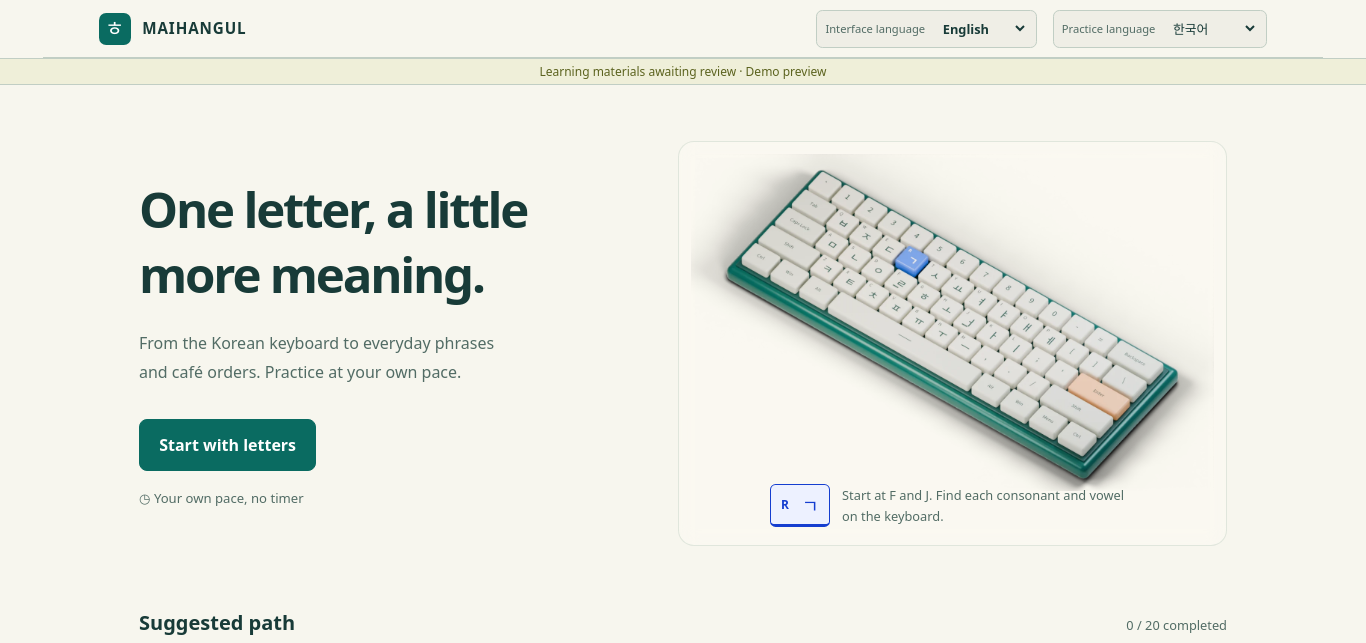
Test case: uses the rendered hero as decoration and derives four-stage counts from real completed content
Click the button "Start with letters". click: coordinates (228, 445)
box: [139, 419, 316, 471]
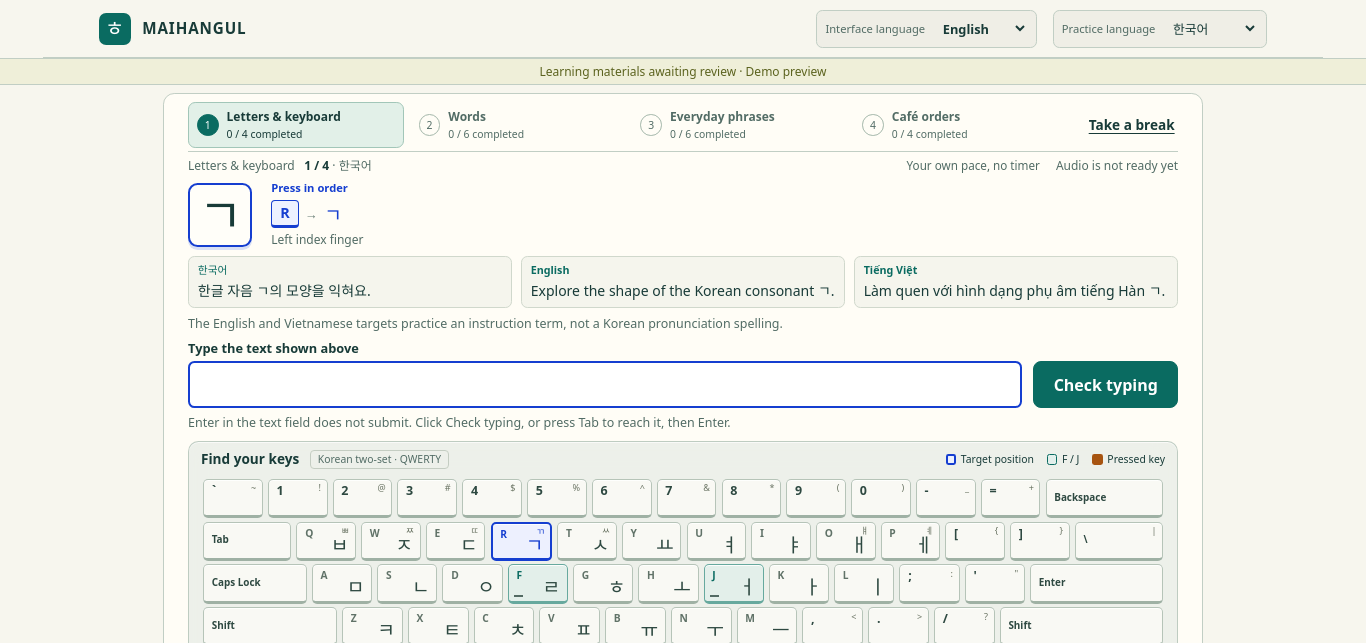
Check: the number of list items is 4, box [188, 102, 404, 148]; [419, 108, 524, 142]; [640, 108, 775, 142]; [862, 108, 968, 142]
Check: the list item "1 Letters & keyboard 0 / 4 completed" is shown, box [188, 102, 404, 148]
Check: the list item "2 Words 0 / 6 completed" is shown, box [419, 108, 524, 142]
Type "ㄱ" into the field. click: coordinates (605, 384)
box: [188, 361, 1022, 408]
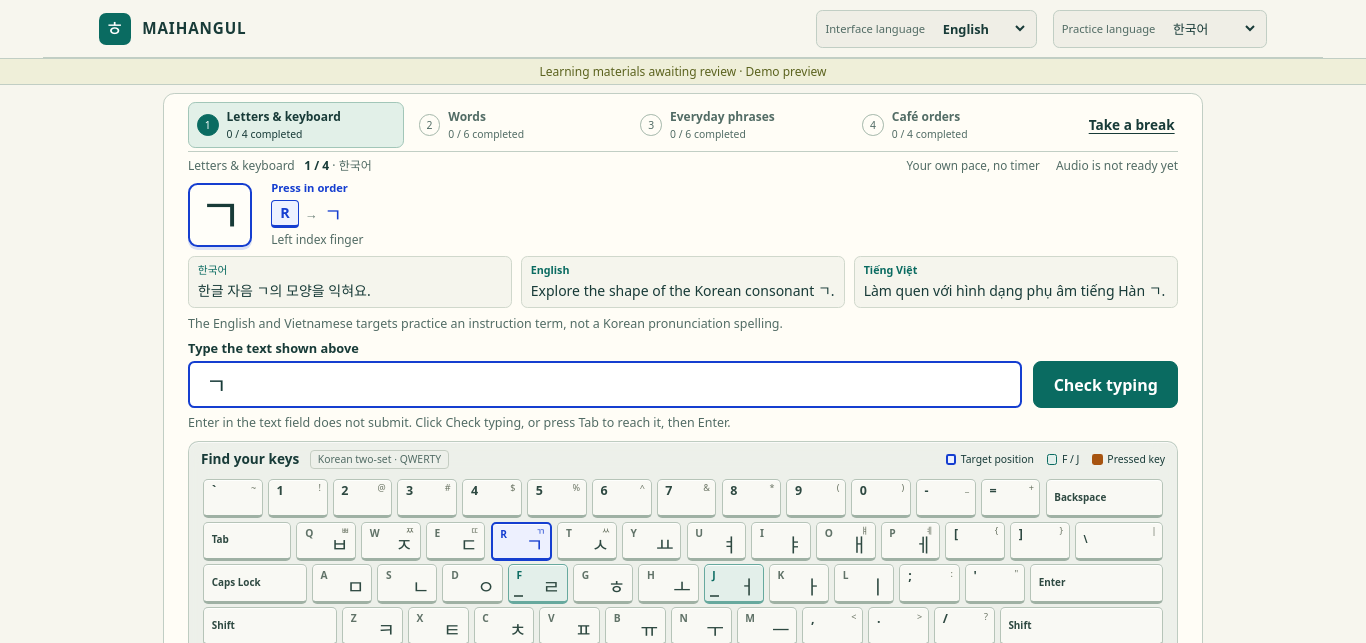
Click the button "Check typing". click: coordinates (1106, 384)
box: [1034, 361, 1178, 408]
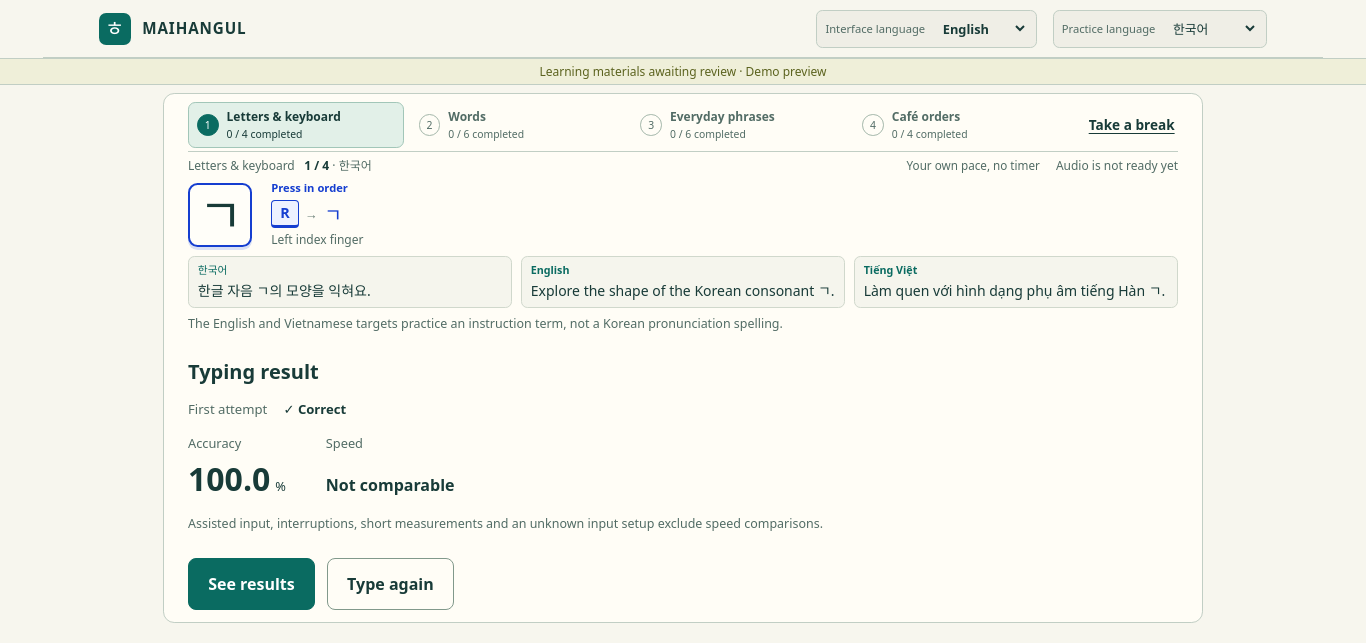
Check: the list item "1 Letters & keyboard 0 / 4 completed" is shown, box [188, 102, 404, 148]
Click the button "See results". click: coordinates (251, 584)
box: [188, 558, 315, 610]
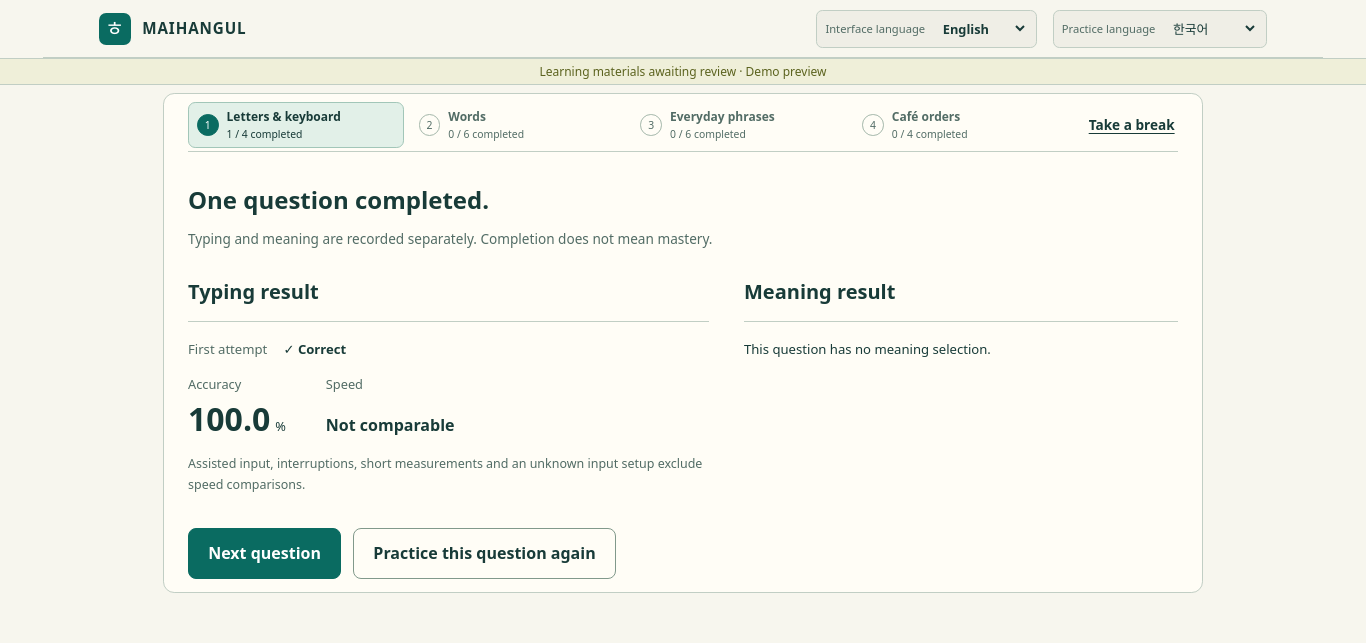
Check: the list item "1 Letters & keyboard 1 / 4 completed" is shown, box [188, 102, 404, 148]
Select "English" in the dropdown labelled "Practice language". click: coordinates (1212, 29)
box: [1165, 13, 1258, 44]
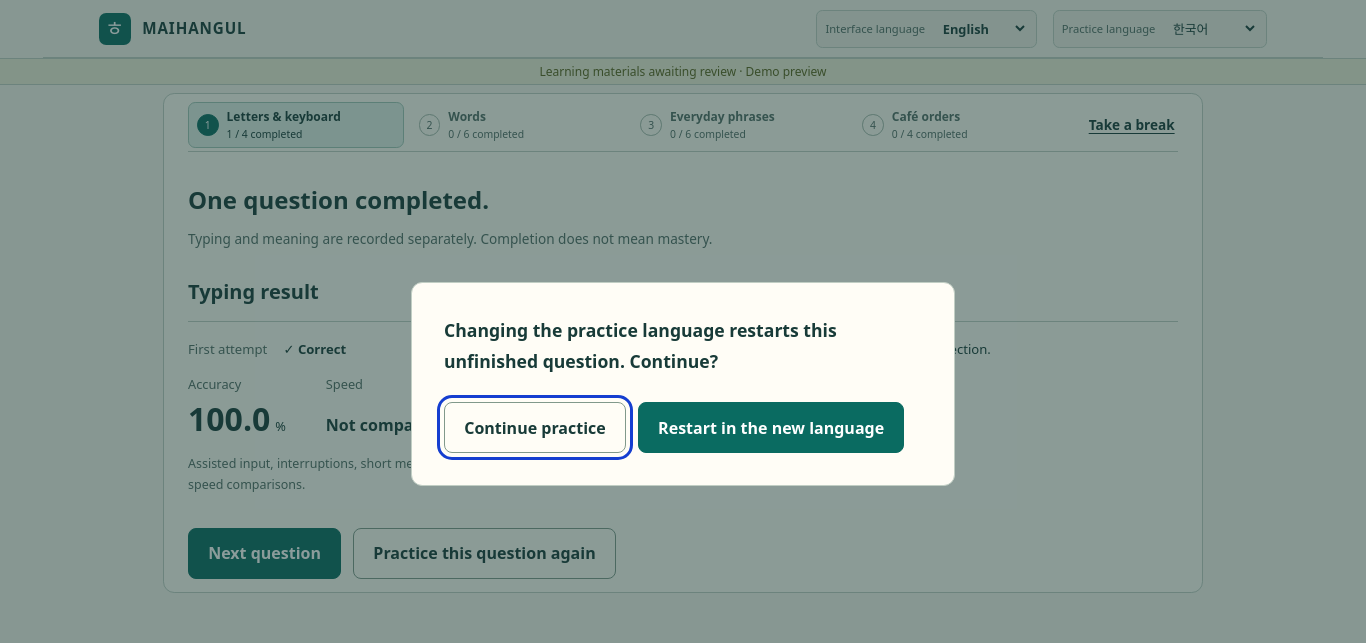
Click the button "Restart in the new language". click: coordinates (771, 428)
box: [638, 402, 904, 454]
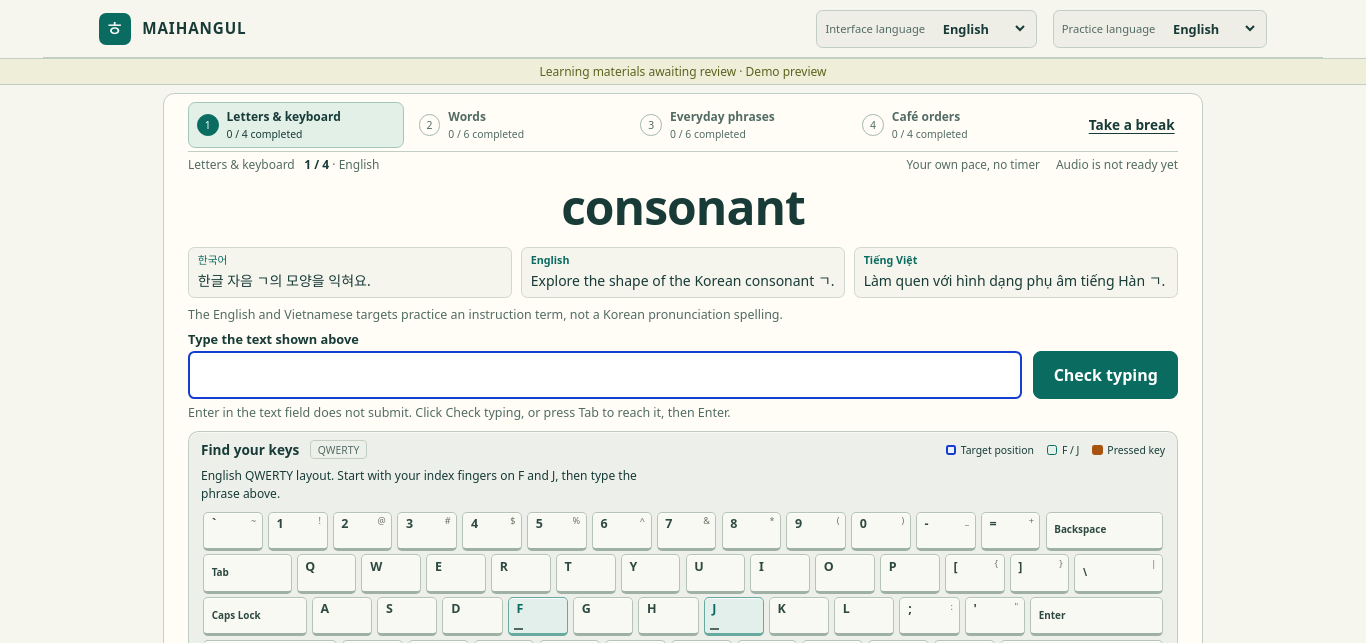
Check: the list item "1 Letters & keyboard 0 / 4 completed" is shown, box [188, 102, 404, 148]
